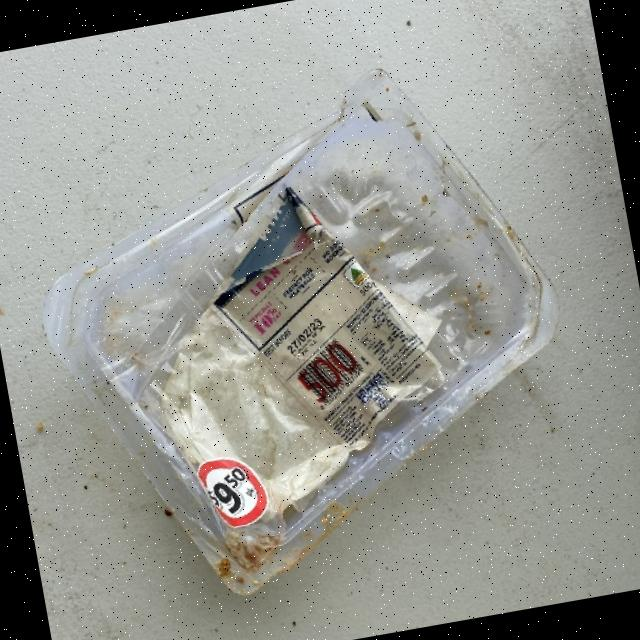plastic: (8, 43, 598, 621)
